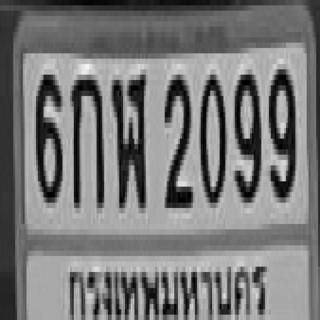A01: (70, 69, 102, 203)
A42: (112, 69, 144, 203)
N00: (199, 69, 223, 203)
N02: (163, 69, 189, 203)
N06: (34, 69, 60, 197)
N09: (267, 64, 294, 197), (233, 64, 260, 197)
P04: (61, 251, 271, 320)
